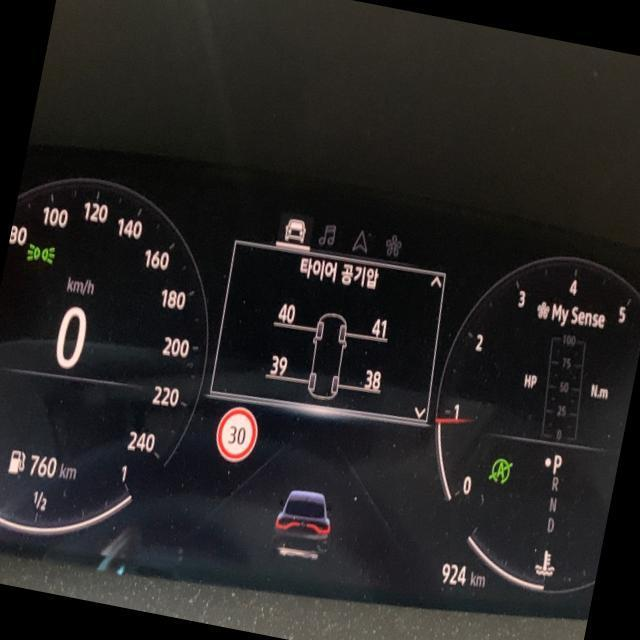SideLamp: (25, 238, 57, 266)
